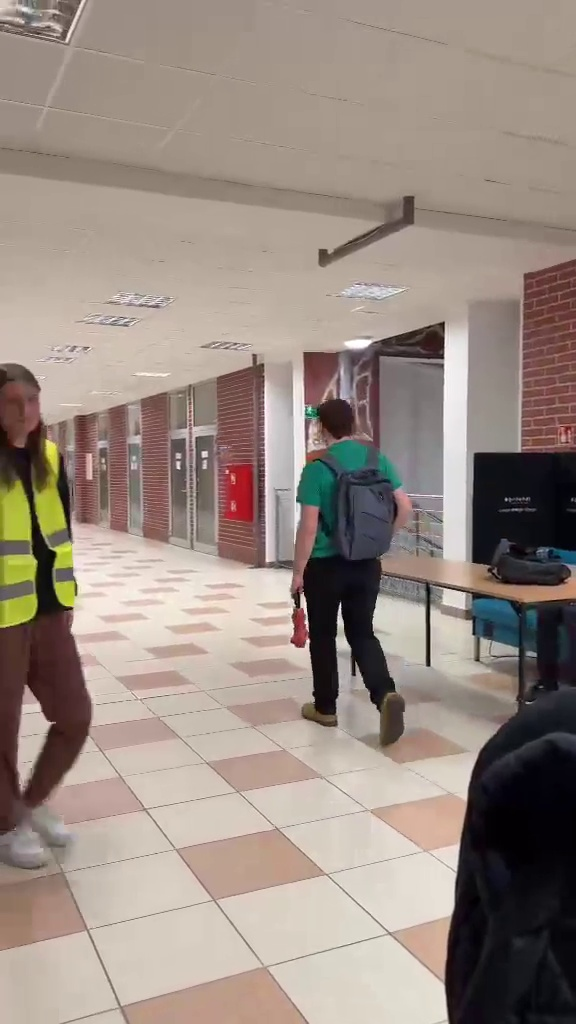no vest: (279, 395, 402, 734)
vest: (2, 367, 98, 877)
